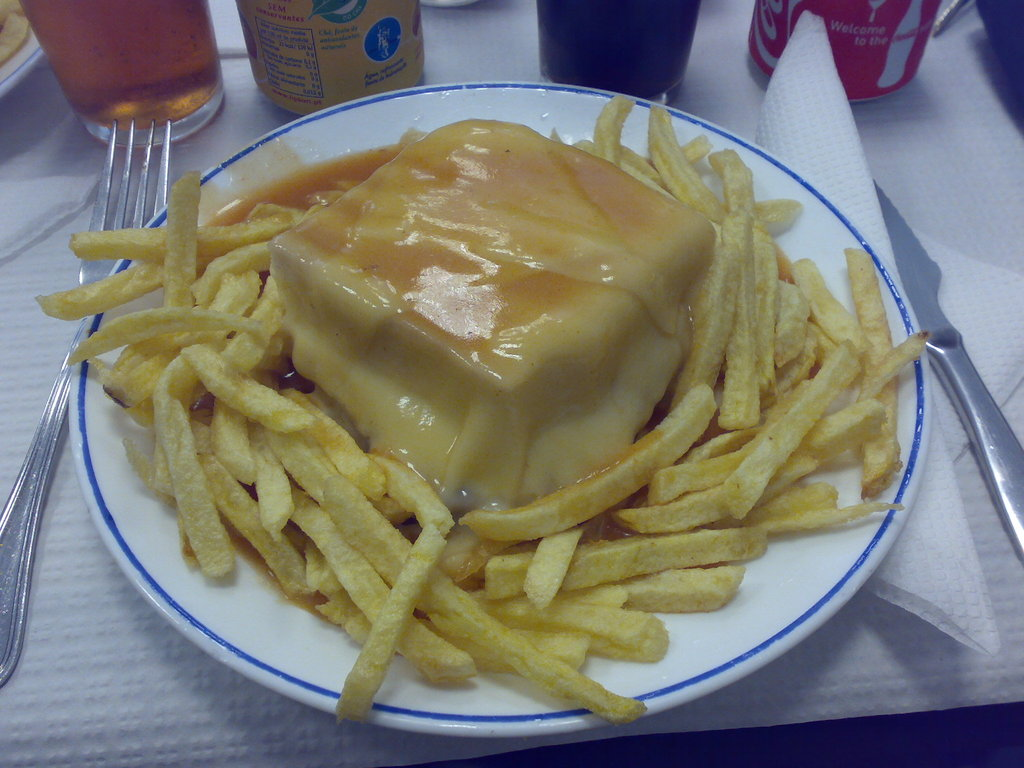French fries: (38, 88, 933, 725)
